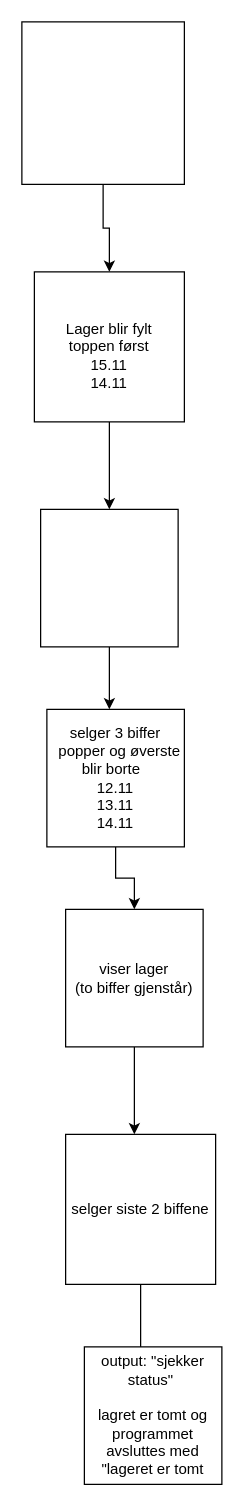
Image size: 244x1506. Some labels were removed from this diagram. The box of each missing label's shape, as (x1, y1, x2, y2) in pixels:
Start program: (21, 21, 184, 184)
viser lager 12.11 13.11: (39, 508, 178, 647)
